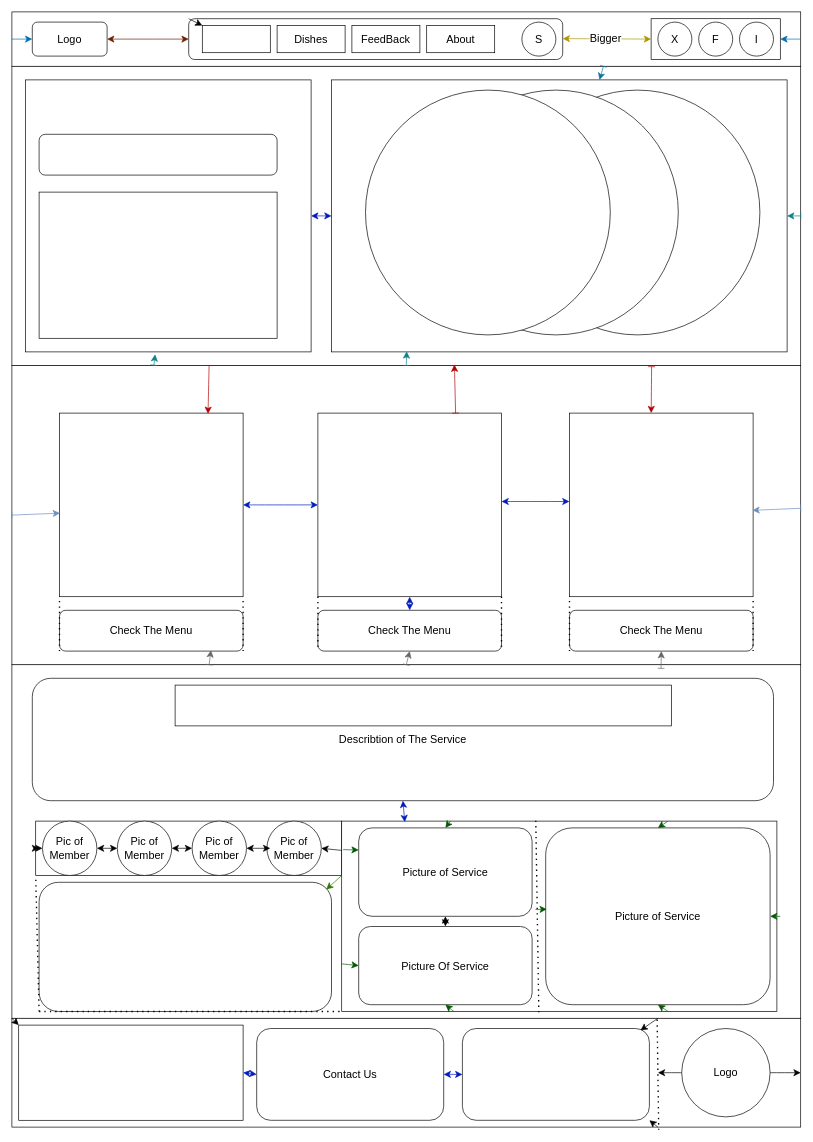
This 813x1142 diagram has some shape labels left out. Each missing label, with the centre of its shape:
"Classic Restaurant Food" belongs at point 661,504.
"Desserts" belongs at point 151,504.
"GOOGLE MAP" belongs at point 130,1072.
"Home" belongs at point 236,39.
"Localisation & Adress Info" belongs at point 555,1074.
"Moroccan Dishes" belongs at point 409,504.
"Motto Of the Restaurant" belongs at point 423,705.
"Text" belongs at point 185,947.
"Text/Details Area" belongs at point 157,264.
"Welcoming" belongs at point 157,154.
